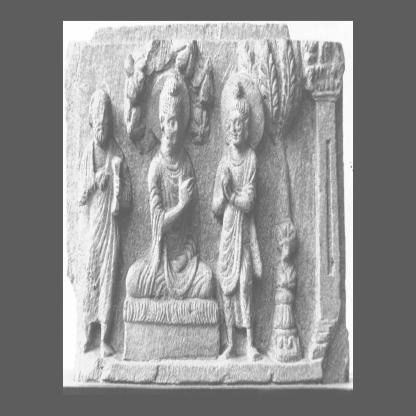buddha-sitting: (124, 71, 219, 359)
